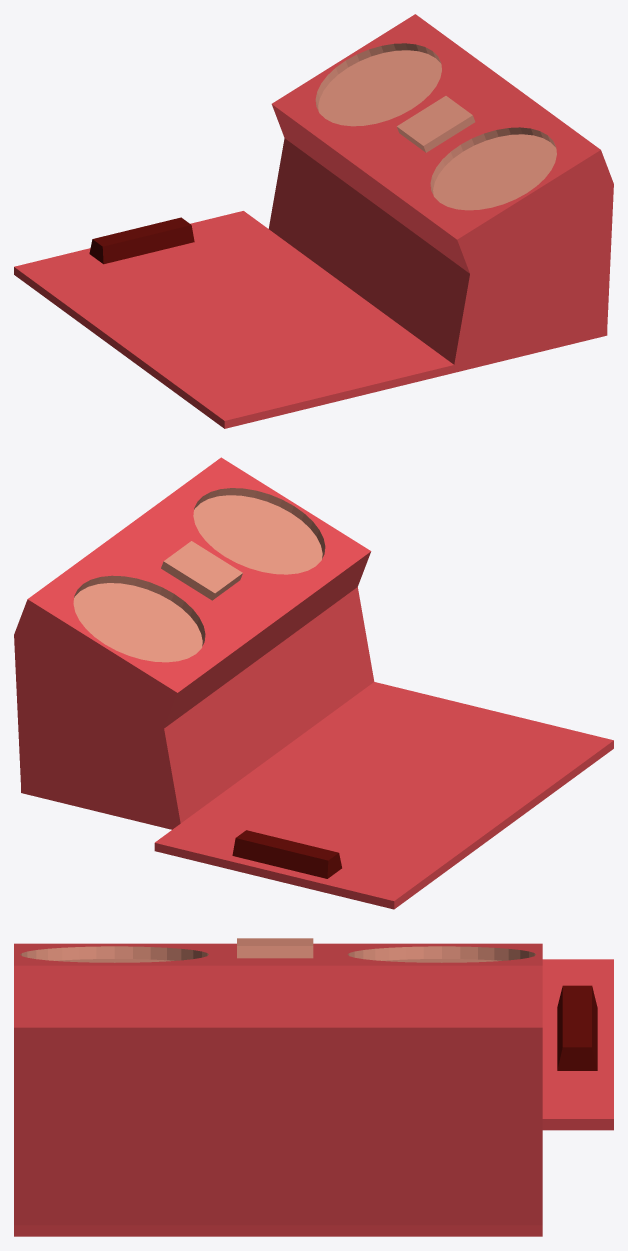
The model's file is cockpit.fbx.
The picture shows the model from 3 angles, top to bottom: view 1: azimuth 30°, elevation 25°; view 2: azimuth 150°, elevation 25°; view 3: azimuth 270°, elevation 25°; orthographic projection. The views are drawn at different scales.
Visible parts, largest first — view 1: Cube; view 2: Cube; view 3: Cube.
Part boxes in pixels (x1=…): Cube: x1=14, y1=14, x2=613, y2=428; Cube: x1=14, y1=457, x2=613, y2=909; Cube: x1=14, y1=938, x2=613, y2=1236.
Bounding box in the file's own units: 509 × 234 × 477.
